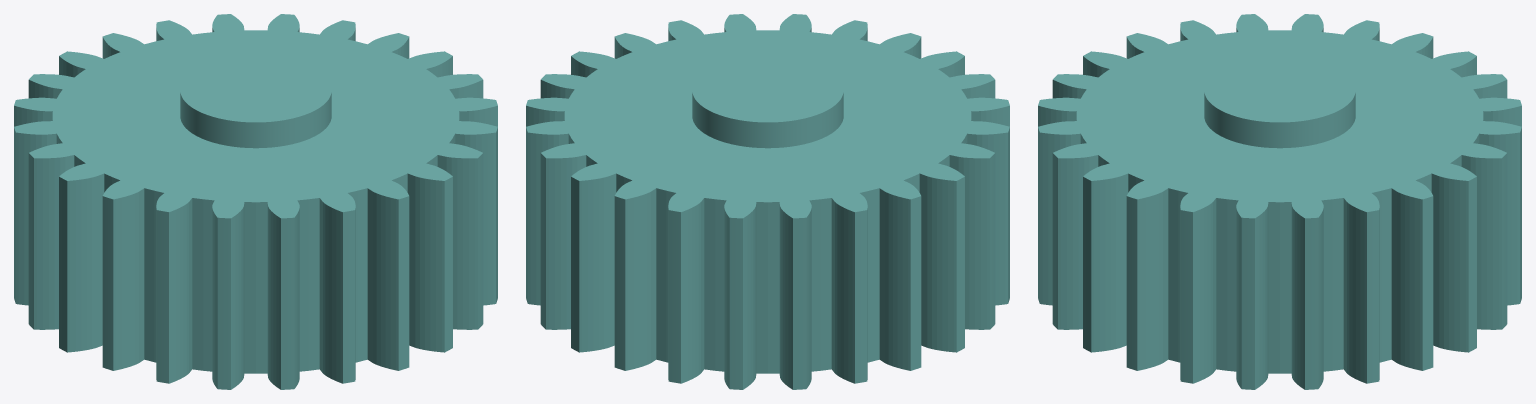
Rendered from step_09.glb.
3 renders of one model, left to right at view 1: azimuth 30°, elevation 25°; view 2: azimuth 150°, elevation 25°; view 3: azimuth 270°, elevation 25°, orthographic.
Visible parts, largest first — view 1: part__planet gear 1; view 2: part__planet gear 1; view 3: part__planet gear 1.
Part boxes in pixels (box(x1,y1,x2,y2)): part__planet gear 1: box(14, 14, 497, 389); part__planet gear 1: box(526, 14, 1009, 389); part__planet gear 1: box(1038, 14, 1521, 389).
Size of the model in its own units: 25.56 by 11.5 by 25.56.
